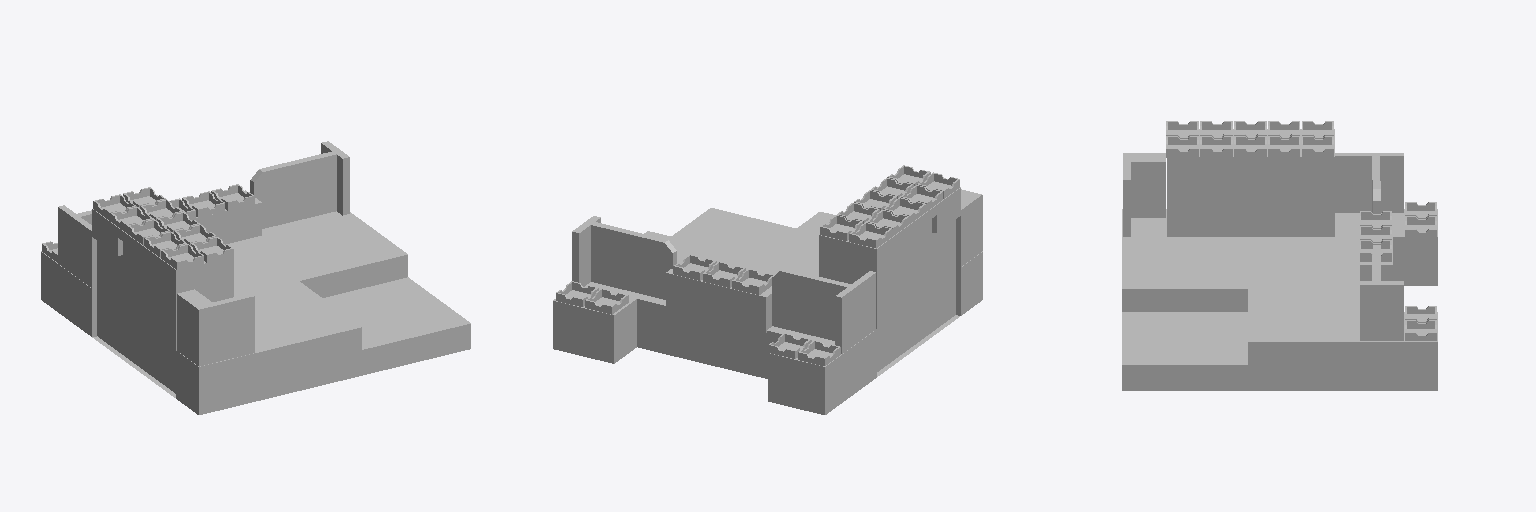
File: RM2018_BattleField_Island.obj
3 views of the same model, side by side, from view 1: azimuth 30°, elevation 25°; view 2: azimuth 150°, elevation 25°; view 3: azimuth 270°, elevation 25° (orthographic).
Visible parts, largest first — view 1: polySurface5114; view 2: polySurface5114; view 3: polySurface5114.
Part boxes in pixels (left/top/right/bottom): polySurface5114: left=41, top=141, right=470, bottom=414; polySurface5114: left=553, top=165, right=982, bottom=414; polySurface5114: left=1122, top=121, right=1437, bottom=390.
Bounding box in the file's own units: 2.5 × 1.2 × 2.51.